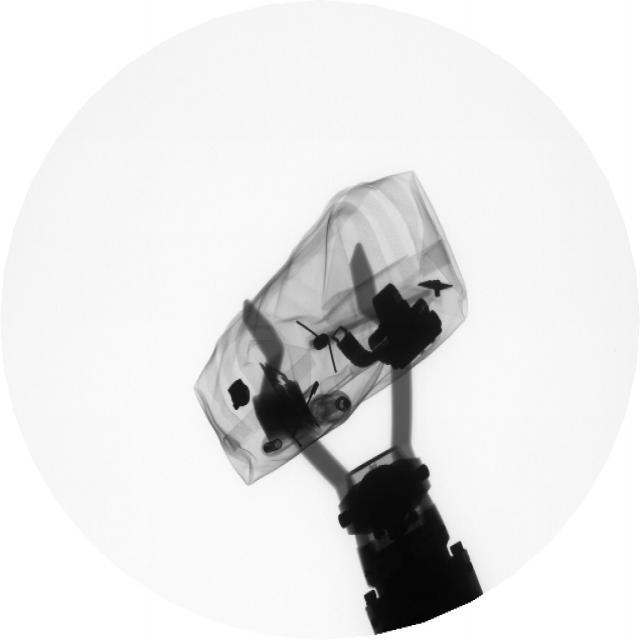BLADE: (267, 362, 305, 424)
GUN: (369, 299, 435, 374)
